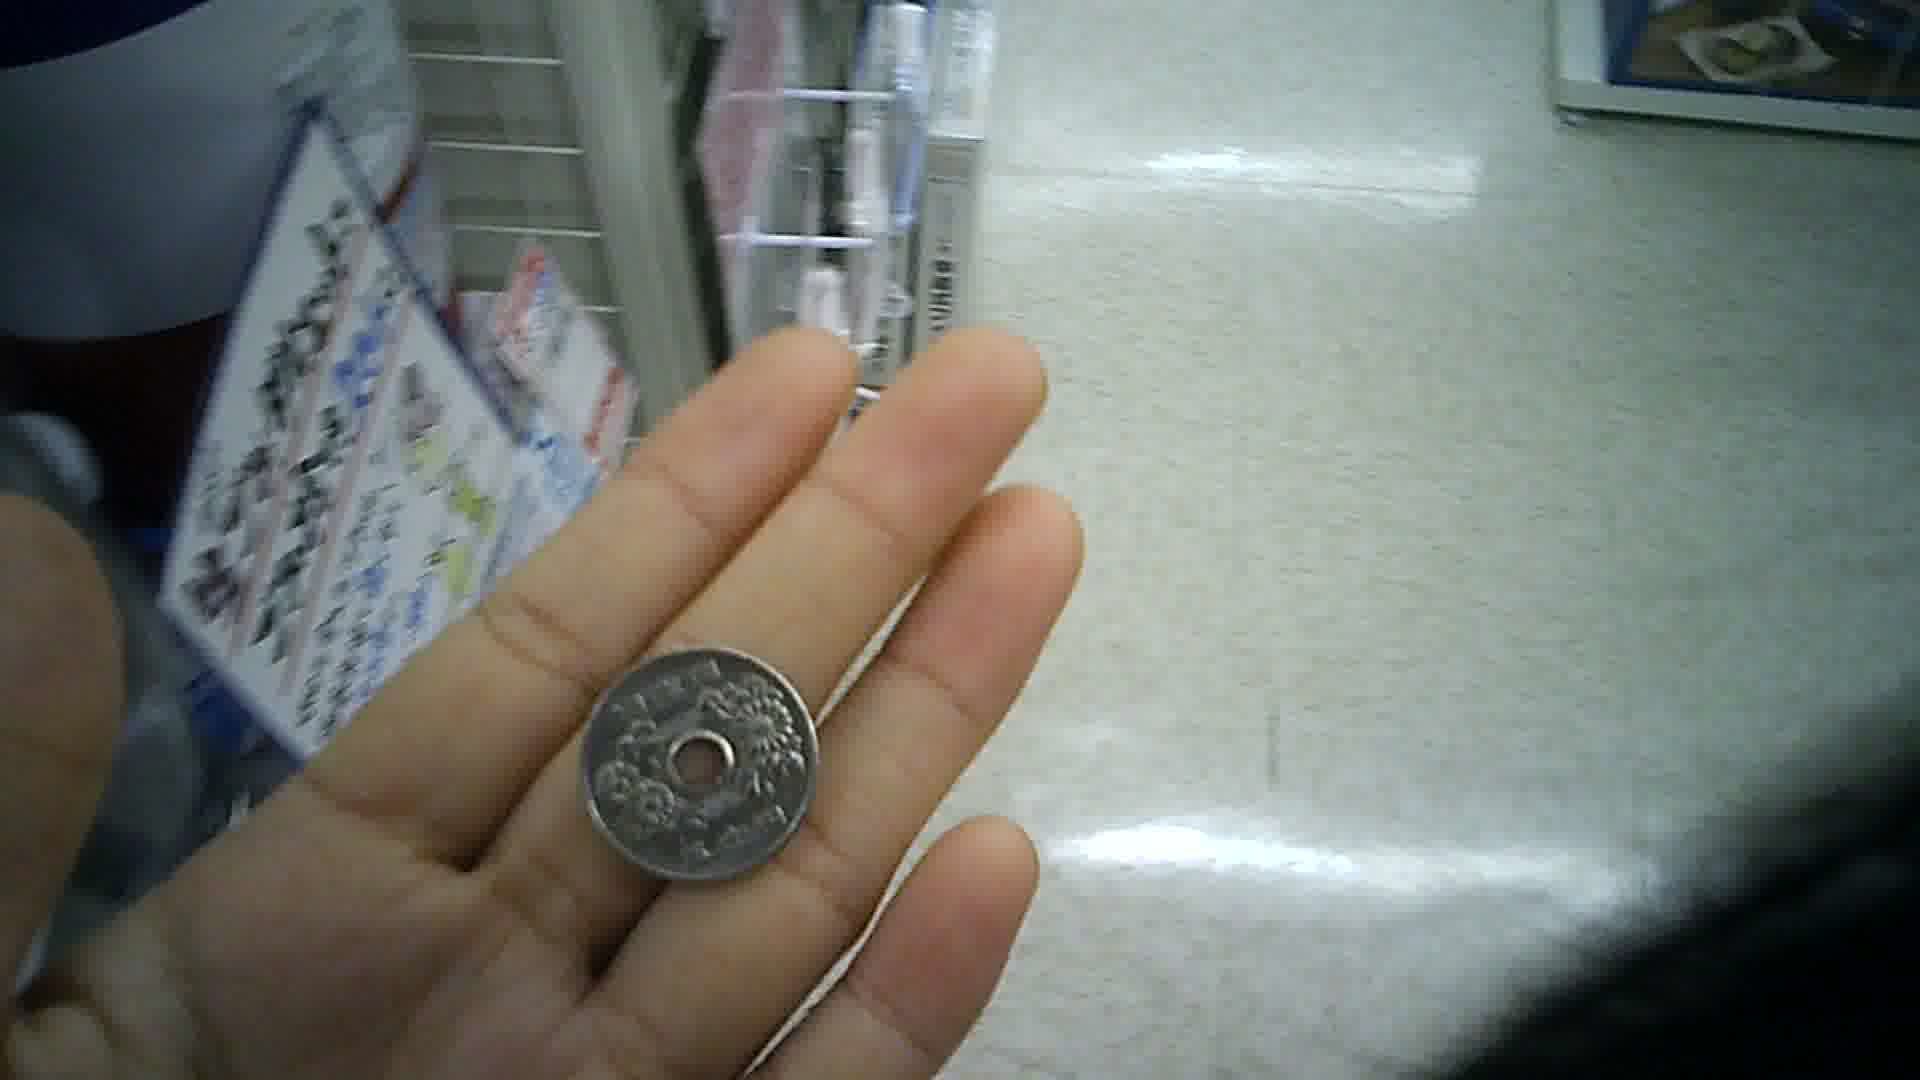50 Yen: (578, 646, 825, 894)
